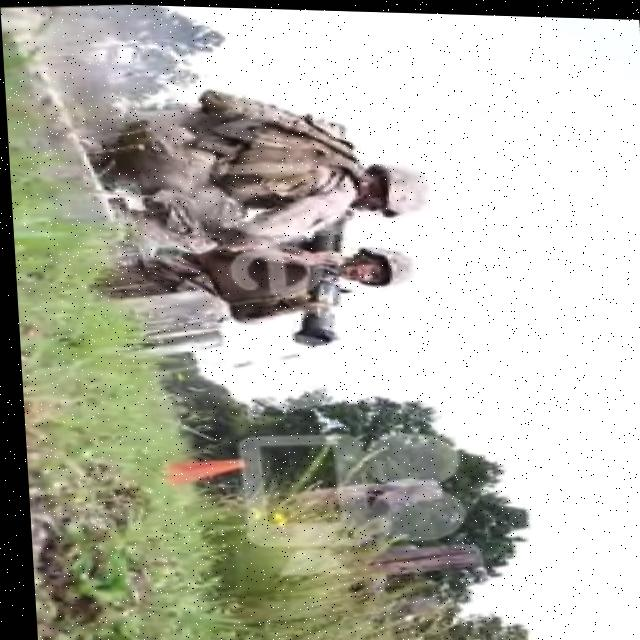rocket: (277, 208, 364, 345)
